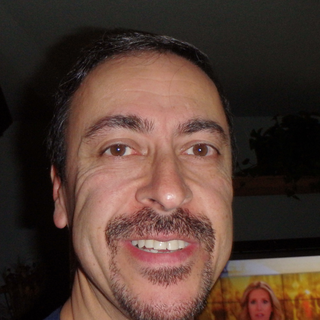eye: (95, 139, 143, 163), (178, 139, 221, 163)
